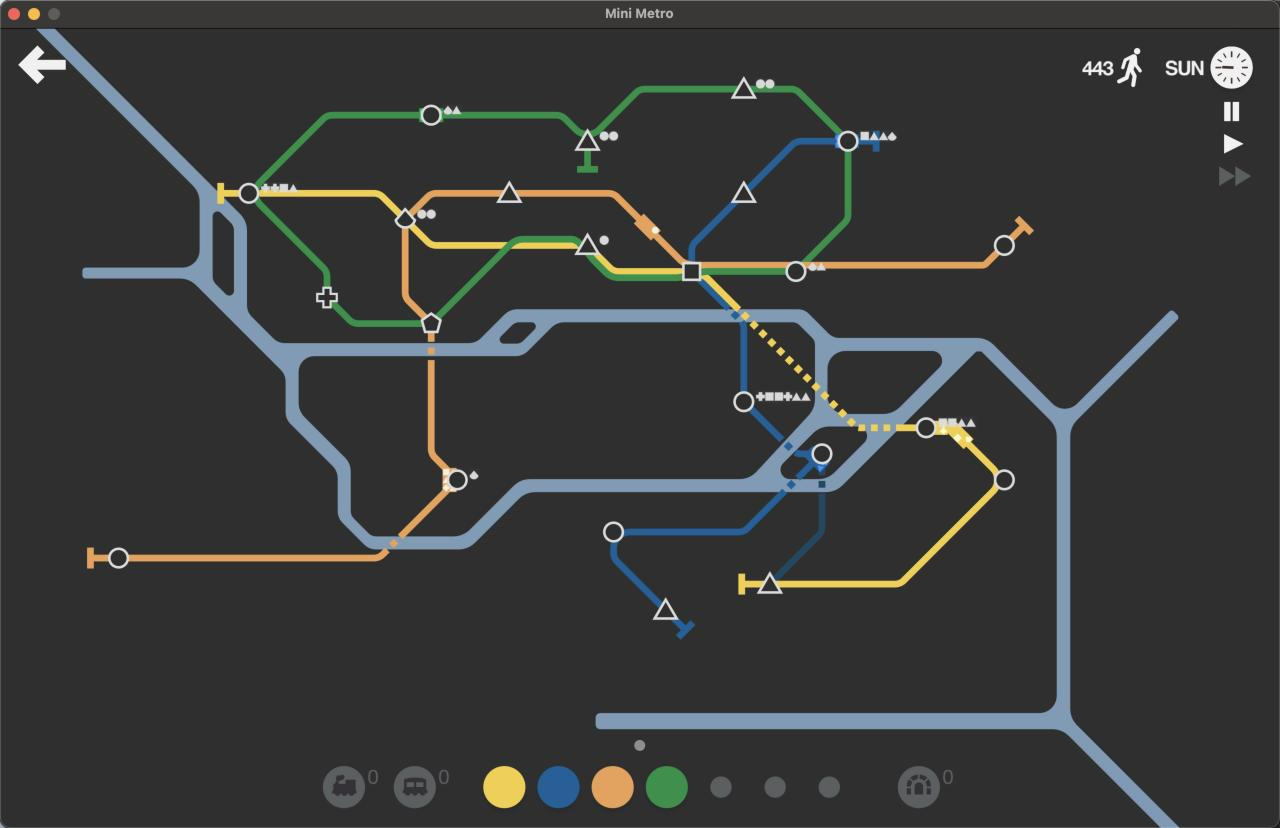BLUE LINE: (627, 460, 815, 535), (699, 281, 749, 390), (749, 135, 837, 193), (609, 544, 662, 609), (749, 409, 809, 459), (688, 201, 739, 259), (861, 130, 882, 151), (673, 619, 695, 639)
DARK GREEN LINE: (254, 112, 421, 186), (436, 236, 581, 319), (593, 85, 738, 137), (255, 199, 330, 287), (803, 151, 853, 262), (755, 85, 845, 135), (446, 112, 587, 137), (586, 256, 683, 281), (333, 303, 419, 327), (703, 269, 785, 276), (580, 151, 599, 172)
ORANGE YELLOW LINE: (129, 487, 451, 563), (519, 191, 686, 265), (805, 249, 1001, 269), (429, 333, 453, 470), (411, 191, 503, 217), (402, 227, 427, 319), (698, 261, 795, 268), (1012, 216, 1035, 239), (87, 548, 109, 570)
YELLOW LINE: (704, 277, 917, 432), (777, 487, 999, 588), (261, 189, 401, 215), (938, 425, 999, 473), (411, 226, 508, 248), (594, 255, 684, 273), (738, 573, 763, 596), (216, 182, 239, 204), (517, 242, 577, 249)
